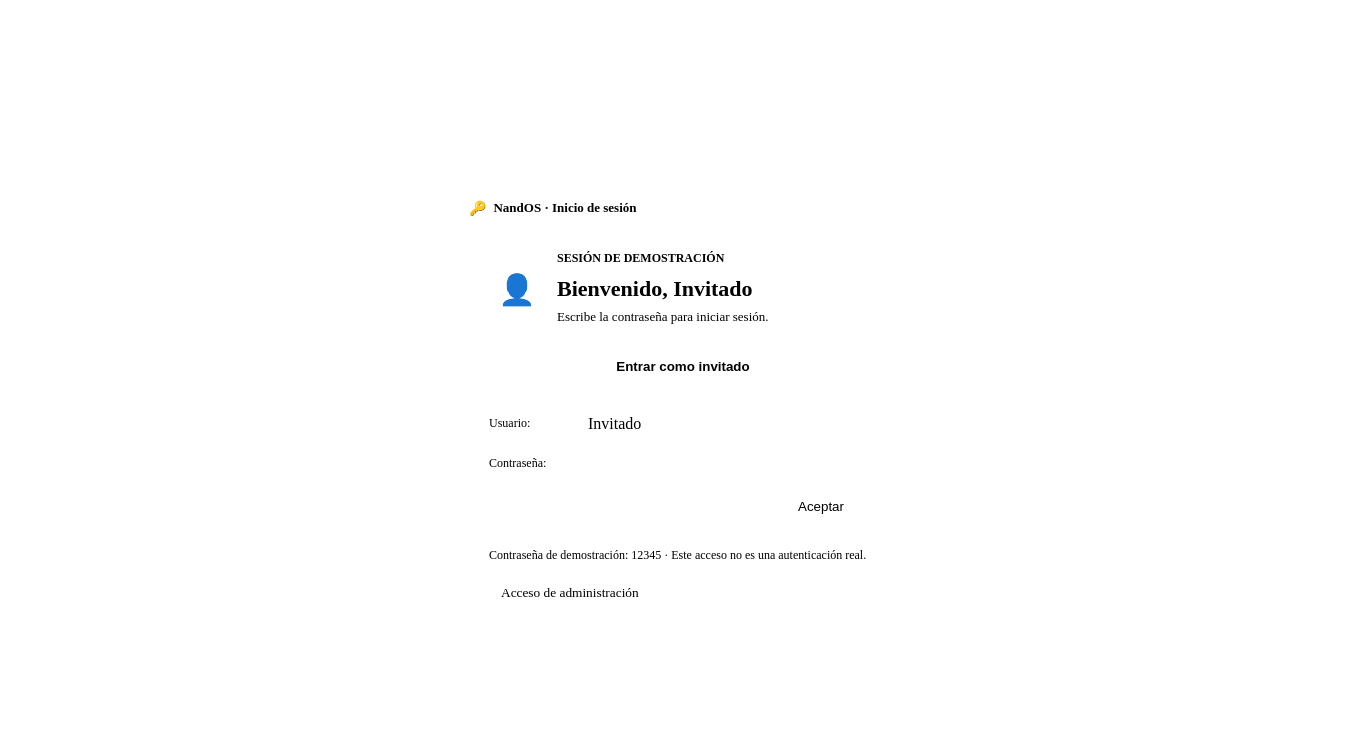
Test: desktop interactions › opens a desktop application with one touch
Click the button "Entrar como invitado" at point(683, 367), box top-left (489, 345), bottom-right (877, 389)
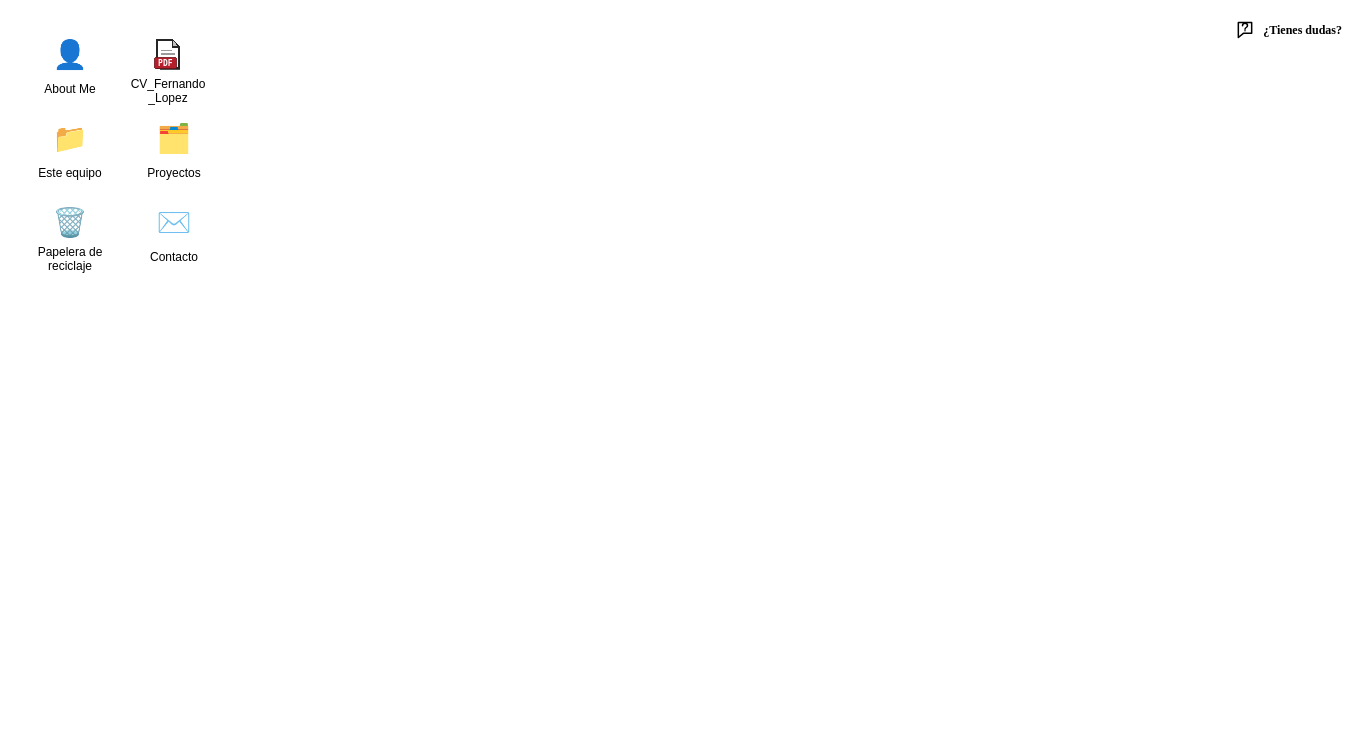
Press the mouse on the button with aria-label "Proyectos. Doble clic para abrir" at point(174, 154), box top-left (130, 116), bottom-right (218, 192)
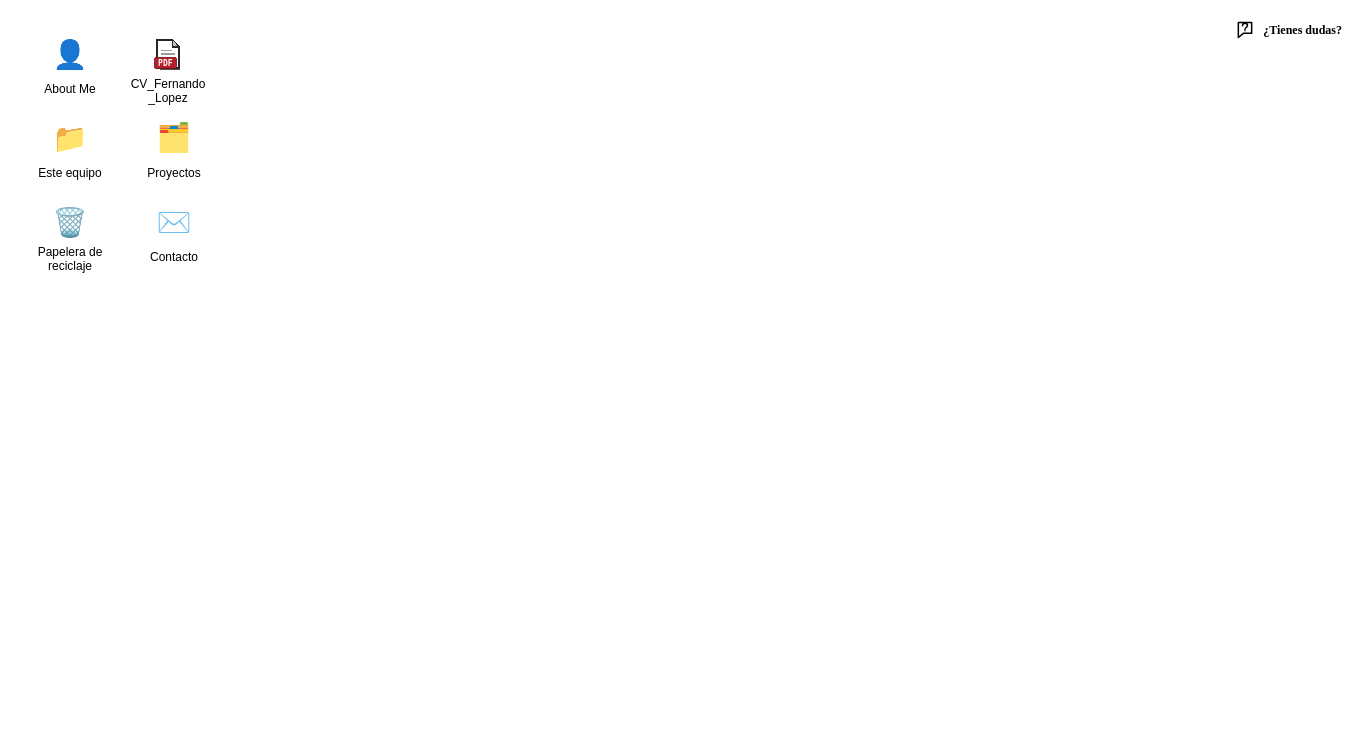
Click the button with aria-label "Proyectos. Doble clic para abrir" at point(174, 154), box top-left (130, 116), bottom-right (218, 192)
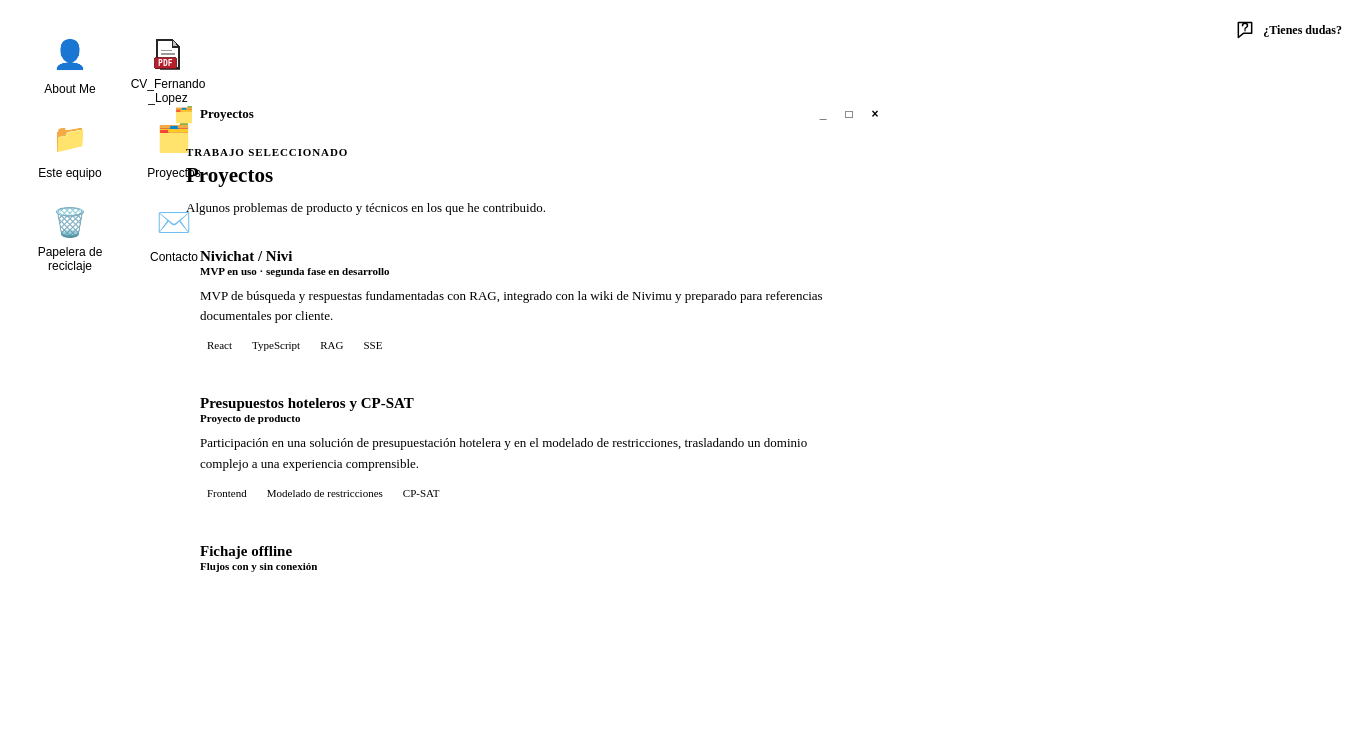
Expected: the dialog "Proyectos" is shown, top-left (168, 100), bottom-right (888, 600)
